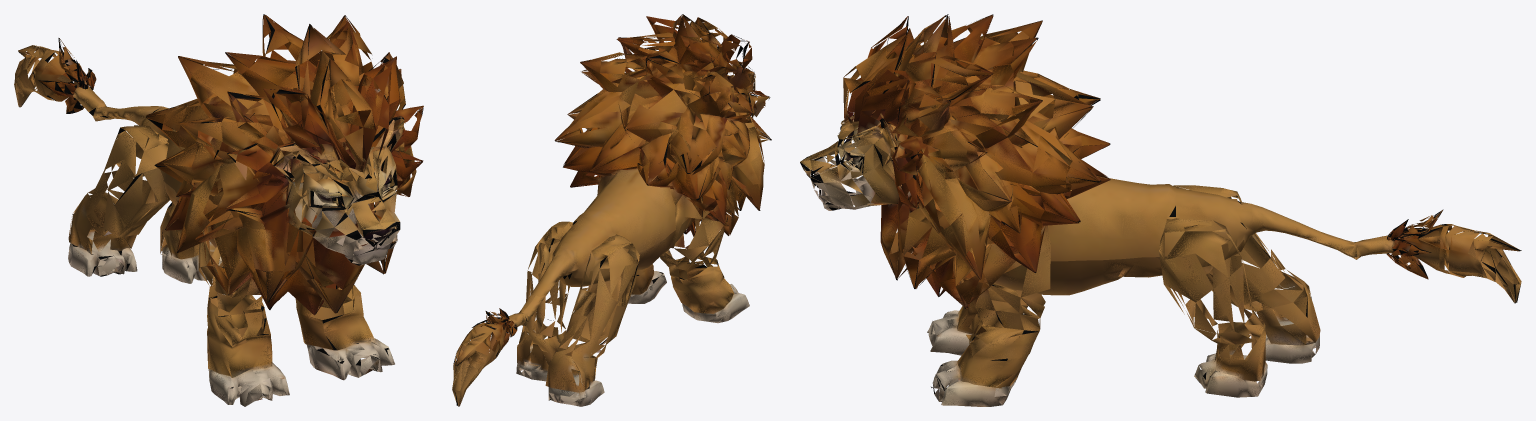
The model's file is creature_lion.fbx.
The picture shows the model from 3 angles, left to right: view 1: azimuth 30°, elevation 25°; view 2: azimuth 150°, elevation 25°; view 3: azimuth 270°, elevation 25°; orthographic projection. The views are drawn at different scales.
Visible parts, largest first — view 1: creature_lion_head, creature_lion_leg_fr, creature_lion_leg_br, creature_lion_leg_fl, creature_lion_body, creature_lion_leg_bl, creature_lion_tail; view 2: creature_lion_body, creature_lion_head, creature_lion_leg_br, creature_lion_leg_fr, creature_lion_leg_bl, creature_lion_tail, creature_lion_leg_fl; view 3: creature_lion_head, creature_lion_body, creature_lion_leg_fl, creature_lion_leg_bl, creature_lion_leg_br, creature_lion_tail, creature_lion_leg_fr.
Boxes of the visible parts, x1=… form: creature_lion_head: x1=162, y1=15, x2=423, y2=301; creature_lion_leg_fr: x1=165, y1=183, x2=342, y2=406; creature_lion_leg_br: x1=14, y1=62, x2=169, y2=276; creature_lion_leg_fl: x1=295, y1=254, x2=394, y2=380; creature_lion_body: x1=42, y1=14, x2=352, y2=245; creature_lion_leg_bl: x1=21, y1=59, x2=222, y2=283; creature_lion_tail: x1=15, y1=38, x2=76, y2=95; creature_lion_body: x1=474, y1=58, x2=724, y2=336; creature_lion_head: x1=567, y1=14, x2=771, y2=244; creature_lion_leg_br: x1=455, y1=250, x2=638, y2=406; creature_lion_leg_fr: x1=635, y1=202, x2=749, y2=323; creature_lion_leg_bl: x1=452, y1=238, x2=569, y2=405; creature_lion_tail: x1=452, y1=311, x2=503, y2=388; creature_lion_leg_fl: x1=597, y1=194, x2=685, y2=303; creature_lion_head: x1=800, y1=14, x2=1054, y2=287; creature_lion_body: x1=1015, y1=20, x2=1442, y2=276; creature_lion_leg_fl: x1=884, y1=244, x2=1162, y2=406; creature_lion_leg_bl: x1=1154, y1=233, x2=1521, y2=397; creature_lion_leg_br: x1=1204, y1=228, x2=1519, y2=363; creature_lion_tail: x1=1434, y1=209, x2=1521, y2=283; creature_lion_leg_fr: x1=889, y1=232, x2=1027, y2=355.
Size of the model in its own units: 502 by 745 by 1366.
1 material, 1 textured.
